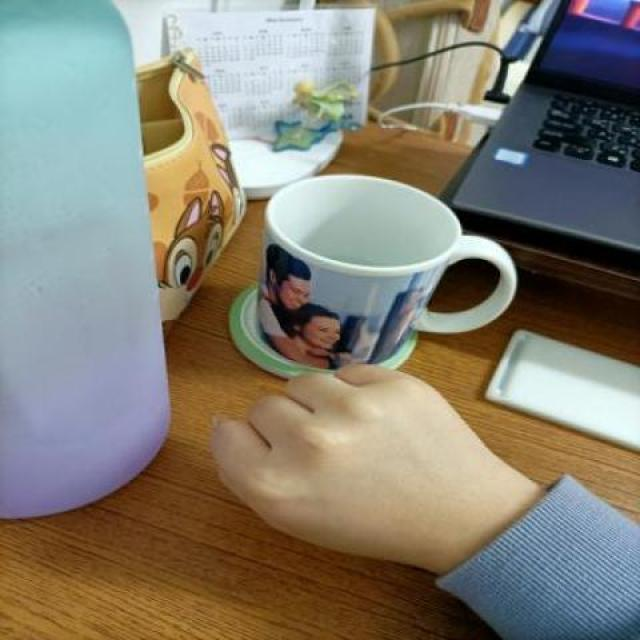Closed Hand: (204, 339, 515, 588)
